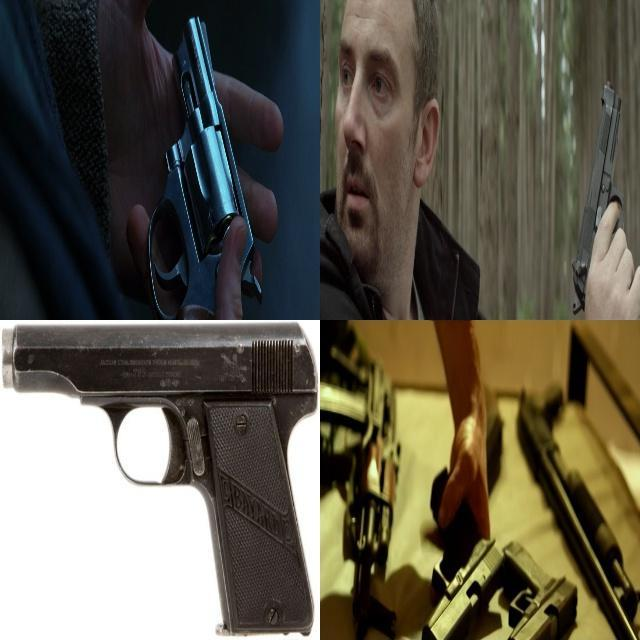gun-knife-thesis - v11 Yolov5 augmented: (0, 321, 317, 628), (144, 12, 260, 319), (523, 365, 626, 627), (565, 69, 639, 319), (436, 541, 570, 635), (333, 368, 395, 563)
